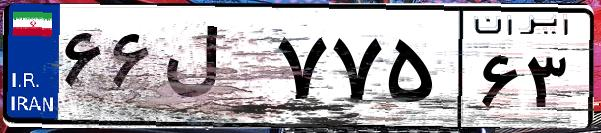3: (525, 38, 570, 115)
5: (385, 28, 445, 110)
6: (57, 26, 110, 100), (475, 38, 525, 113), (110, 28, 158, 98)
7: (270, 28, 330, 110), (330, 28, 385, 110)
ل: (158, 20, 270, 120)
